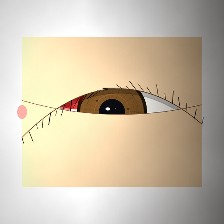hemorrhage_spot: (37, 60, 127, 133)
